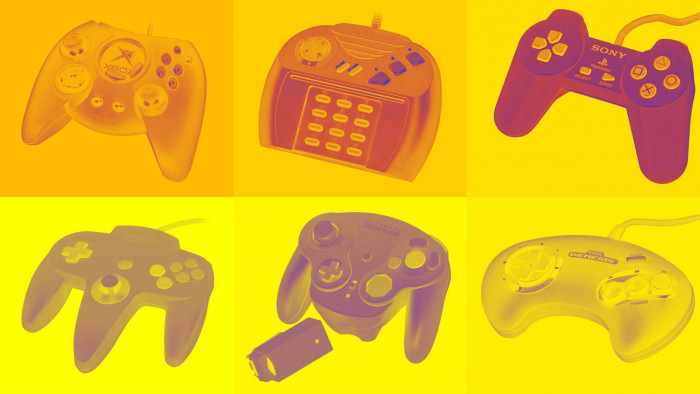controller: (493, 9, 696, 184), (20, 20, 207, 182), (257, 23, 444, 184), (20, 223, 215, 376), (480, 234, 696, 364), (275, 210, 452, 365)
